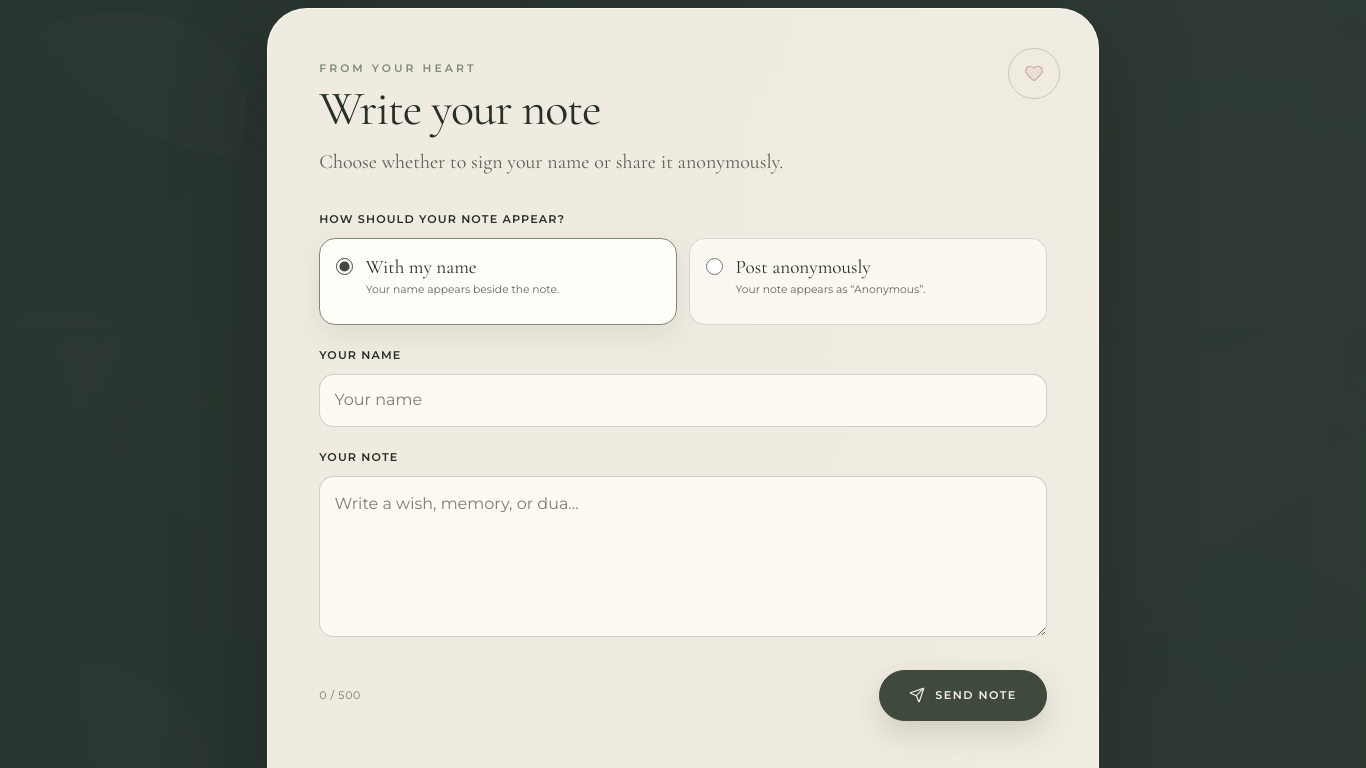
Test: guest notes section › submits a signed note with the visitor name
(page scrolled)
Type "Layla" into the field labelled "Your name" at coordinates (683, 400), box [319,374,1047,427]
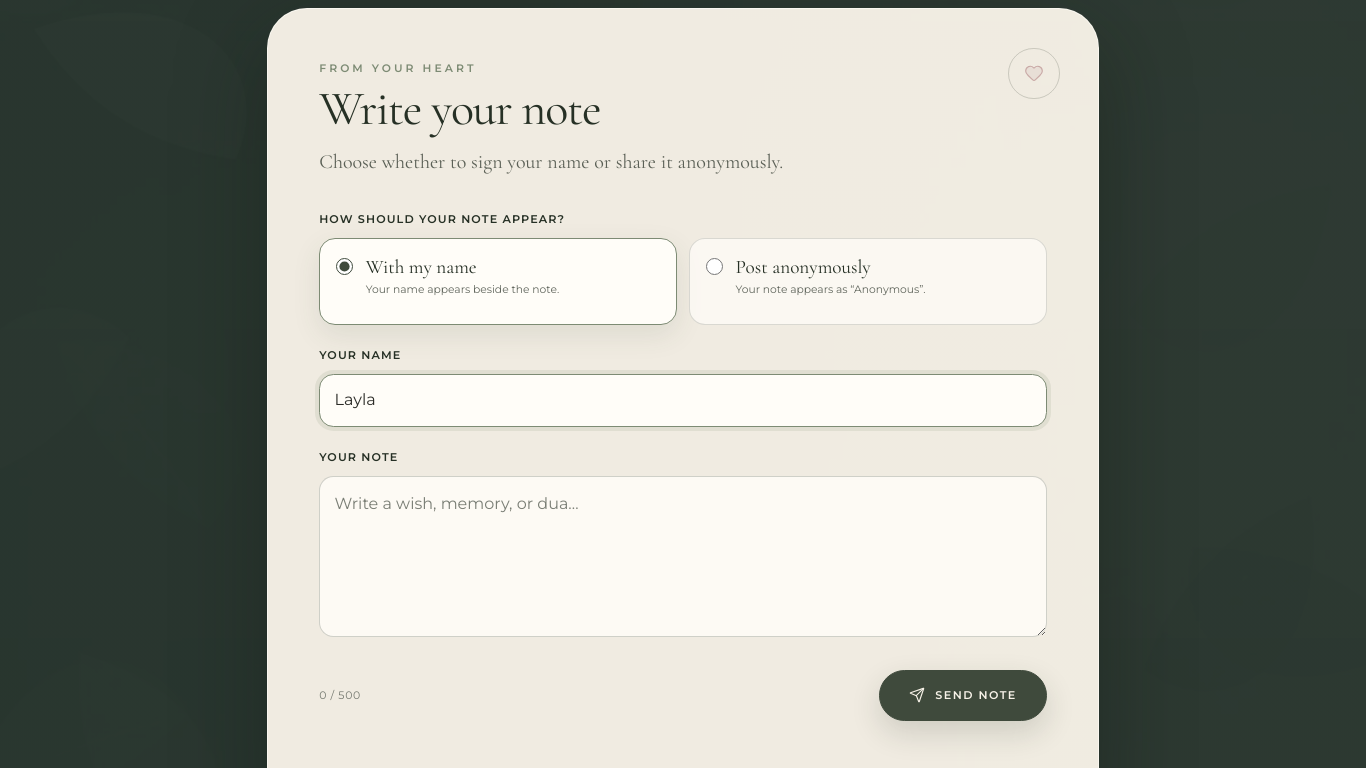
Type "May your life together be full of baraka." into the text box labelled "Your note" at coordinates (683, 557), box [319,476,1047,637]
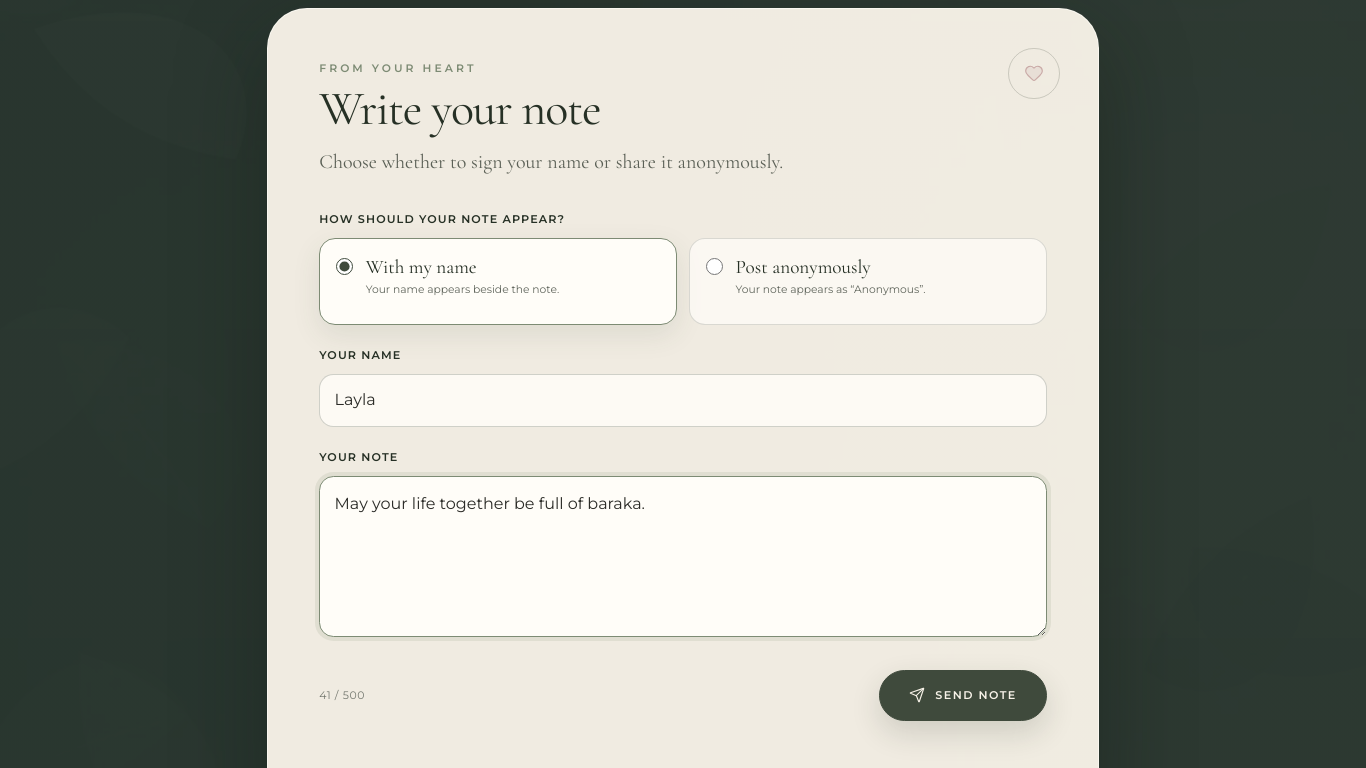
Click the button "Send note" at coordinates (963, 695), box [879,670,1047,721]
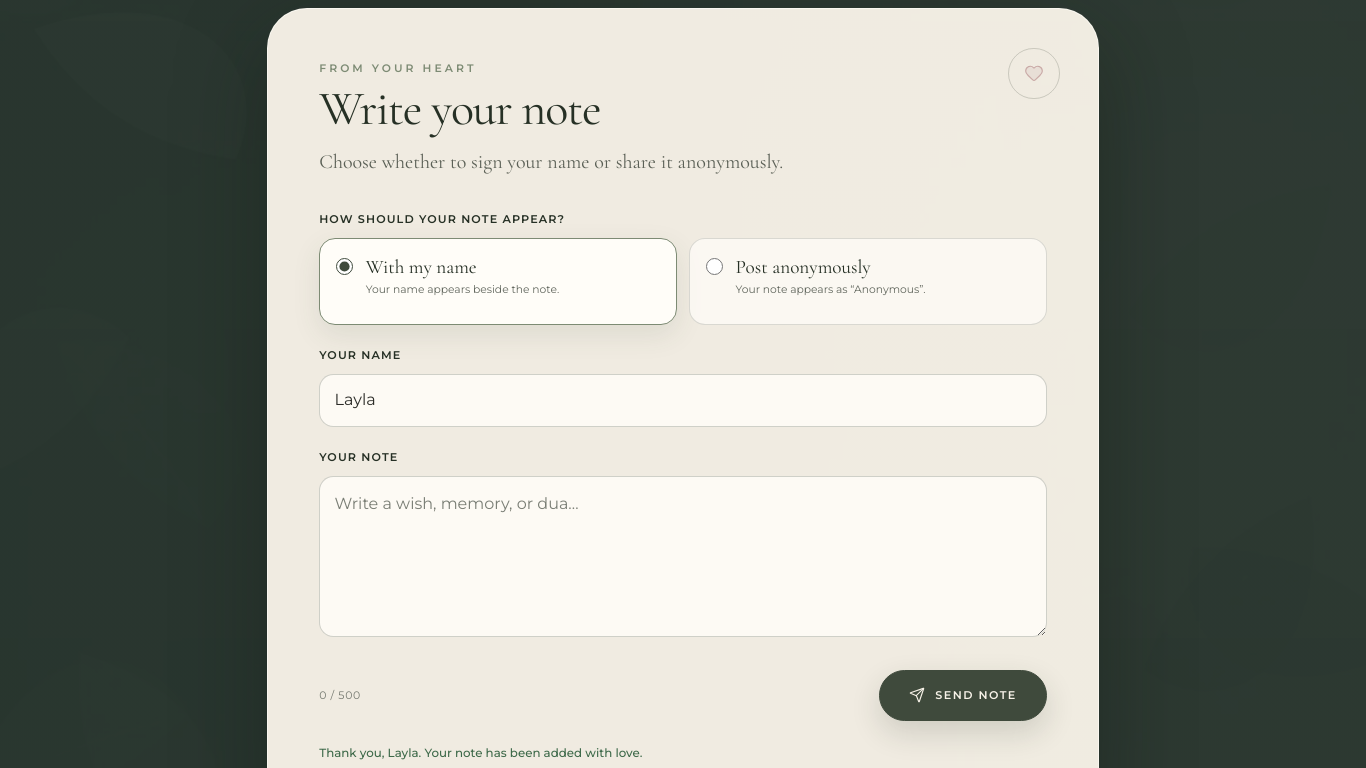
Check: the text "Thank you, Layla. Your note has been added with love." is shown, box [319,746,642,760]
